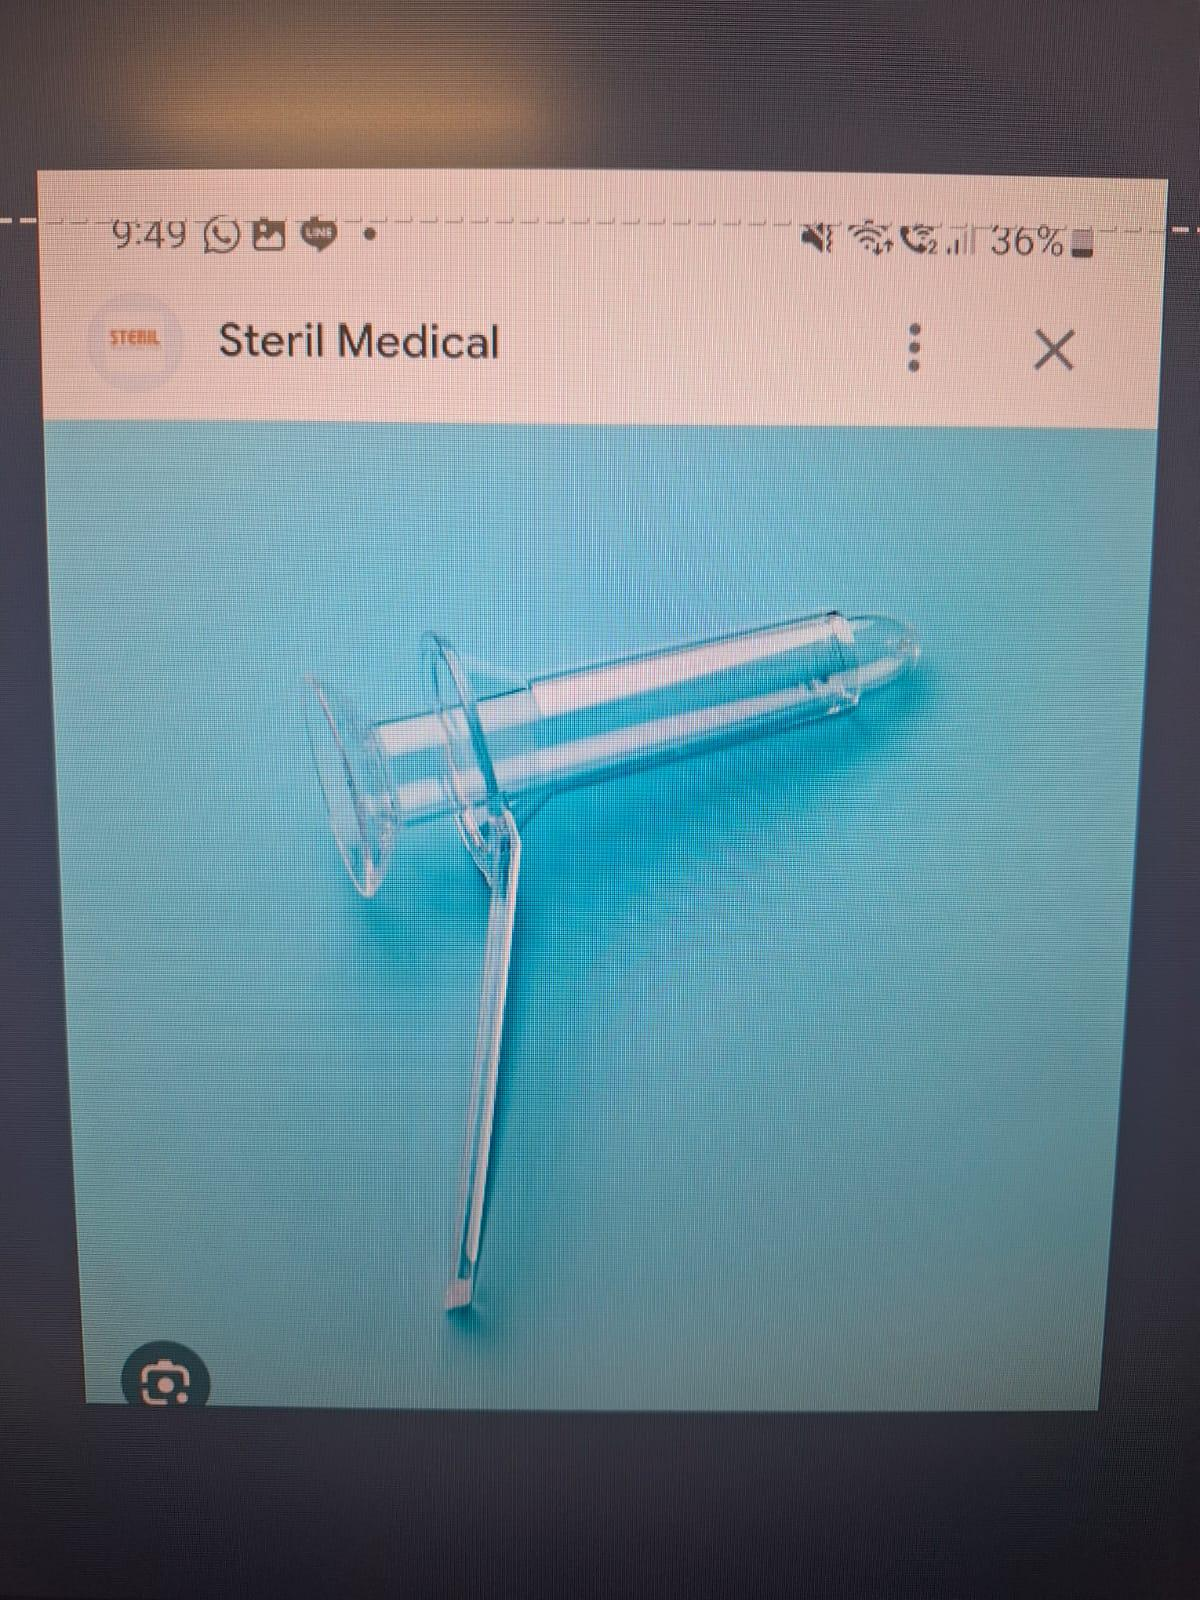Protoscope: (295, 582, 943, 1346)
